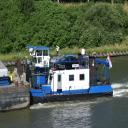tugboat: (17, 43, 115, 108)
